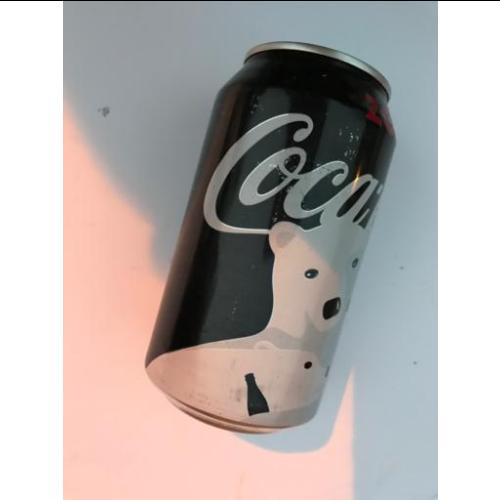metal: (143, 42, 397, 435)
